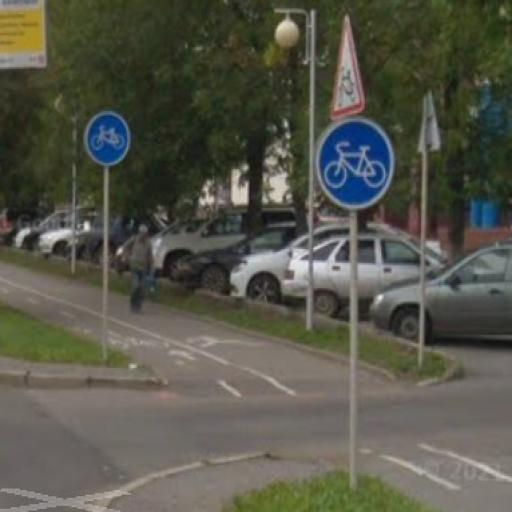traffic_sign: (315, 117, 398, 211), (327, 14, 369, 123), (84, 109, 132, 165)
